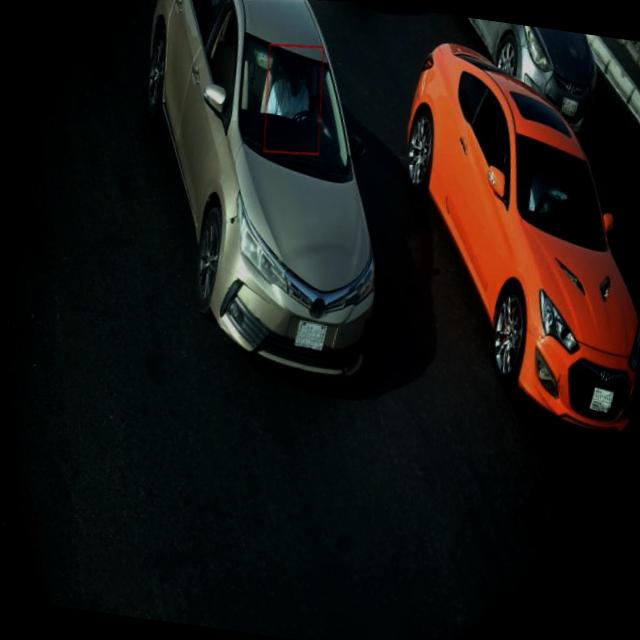person_without_seatbelt: (264, 49, 324, 150)
